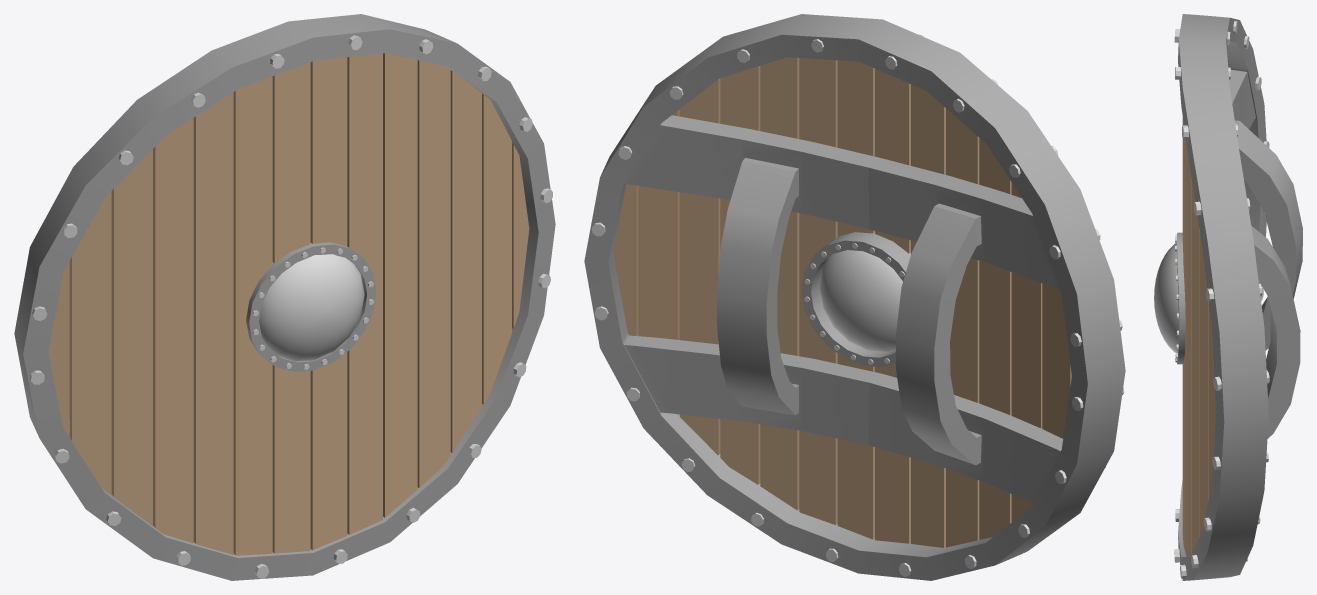
File: shield.fbx
3 views of the same model, side by side, from view 1: azimuth 30°, elevation 25°; view 2: azimuth 150°, elevation 25°; view 3: azimuth 270°, elevation 25° (orthographic). The views are drawn at different scales.
Visible parts, largest first — view 1: outer_covering, wood4, wood5, wood2, wood10, wood9, wood1, wood11, wood12, wood3, navel, wood13 (+7 smaller); view 2: outer_covering, wood9, wood10, wood12, wood4, wood2, navel, wood13, wood5, wood1, wood11, inner_covering (+6 smaller); view 3: outer_covering, wood11, wood12, wood10, navel, wood9, wood13, inner_covering, wood8, wood14.
Boxes of the visible parts, x1,y1,x2,y2 form: outer_covering: [14, 14, 555, 580]; wood4: [193, 92, 233, 554]; wood5: [233, 76, 272, 555]; wood2: [153, 118, 193, 543]; wood10: [383, 53, 417, 517]; wood9: [347, 53, 382, 534]; wood1: [111, 149, 152, 526]; wood11: [417, 60, 450, 487]; wood12: [450, 70, 481, 452]; wood3: [69, 191, 111, 495]; navel: [259, 254, 364, 361]; wood13: [482, 94, 511, 404]; outer_covering: [584, 14, 1125, 580]; wood9: [799, 58, 837, 524]; wood10: [760, 57, 799, 510]; wood12: [679, 78, 720, 455]; wood4: [946, 108, 979, 547]; wood2: [979, 138, 1011, 539]; navel: [819, 250, 902, 352]; wood13: [638, 109, 679, 414]; wood5: [911, 84, 945, 547]; wood1: [1011, 183, 1042, 522]; wood11: [720, 66, 760, 484]; inner_covering: [801, 232, 910, 367]; outer_covering: [1178, 14, 1302, 580]; wood11: [1192, 181, 1199, 552]; wood12: [1199, 229, 1208, 536]; wood10: [1186, 145, 1191, 556]; navel: [1154, 243, 1178, 353]; wood9: [1183, 124, 1186, 556]; wood13: [1208, 302, 1216, 498]; inner_covering: [1177, 232, 1185, 364]; wood8: [1182, 364, 1183, 544]; wood14: [1182, 117, 1183, 264].
Size of the model in its own units: 17.14 by 16.54 by 4.32.
